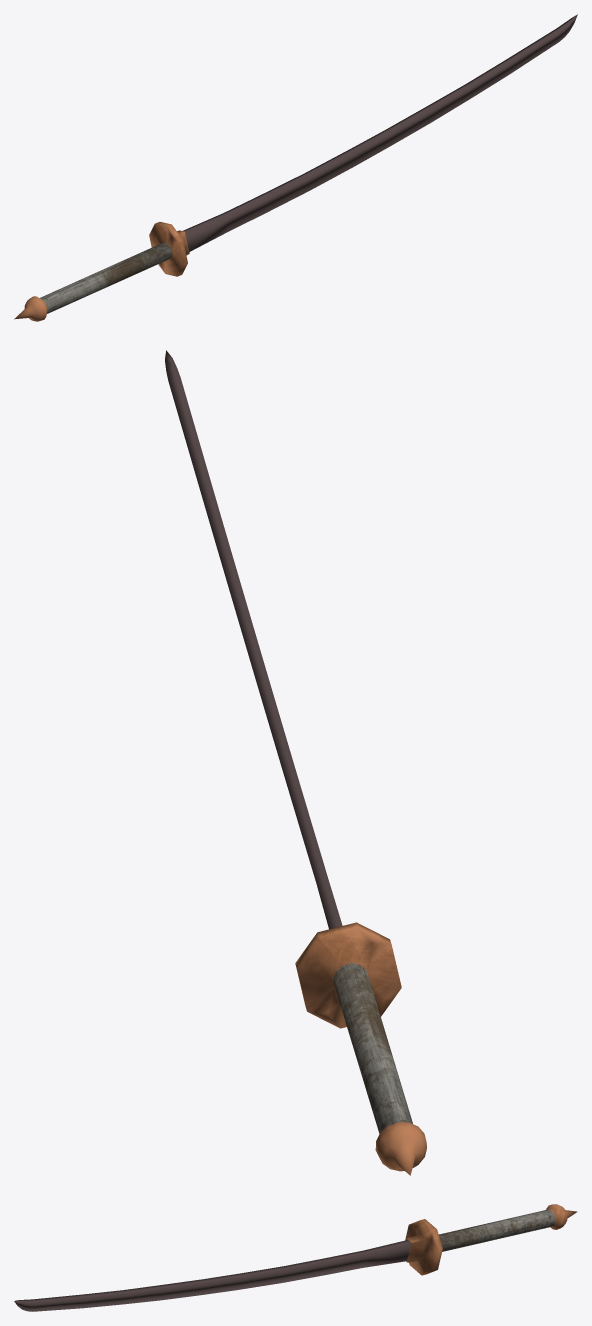
The model's file is Anim_idle_katana_objetos.0052.obj.
The picture shows the model from 3 angles, top to bottom: view 1: azimuth 90°, elevation 25°; view 2: azimuth 150°, elevation 25°; view 3: azimuth 270°, elevation 25°; orthographic projection. The views are drawn at different scales.
Visible parts, largest first — view 1: Katana1; view 2: Katana1; view 3: Katana1.
Boxes of the visible parts, <box> form: Katana1: <box>14,14,577,321</box>; Katana1: <box>165,350,426,1175</box>; Katana1: <box>14,1204,577,1311</box>.
Size of the model in its own units: 3.37 by 0.9317 by 4.07.
